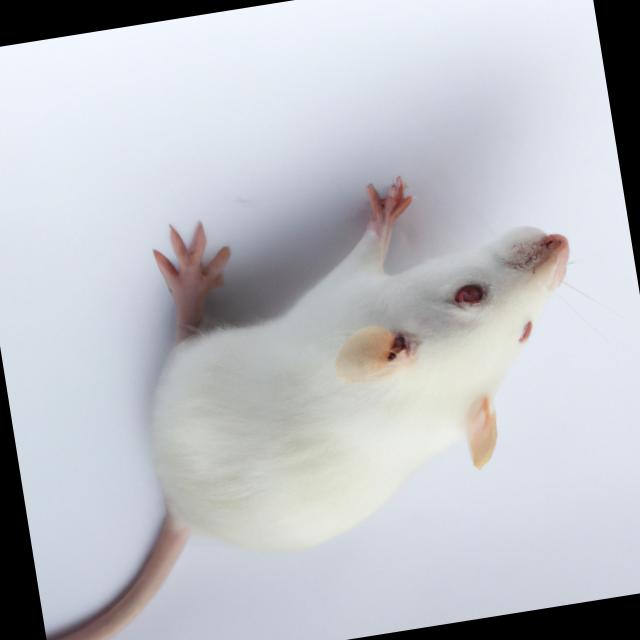rodents: (101, 120, 640, 589)
